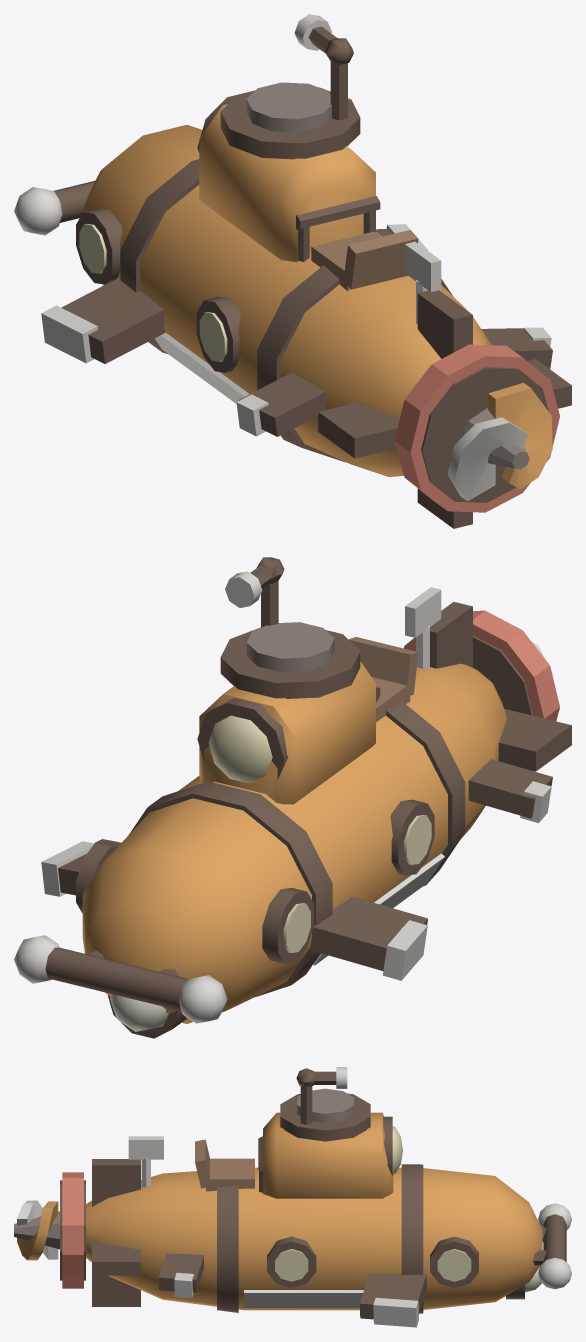
Rendered from ReefRunner.glb.
3 renders of one model, top to bottom at view 1: azimuth 30°, elevation 25°; view 2: azimuth 150°, elevation 25°; view 3: azimuth 270°, elevation 25°, orthographic. The views are drawn at different scales.
Visible parts, largest first — view 1: Hull, Prop, Seat, Hull_Glow; view 2: Hull, Hull_Glow, Seat, Light; view 3: Hull, Prop, Seat, Hull_Glow.
Boxes of the visible parts, left/top/right/bottom form: Hull: left=14, top=14, right=571, bottom=528; Prop: left=447, top=382, right=552, bottom=501; Seat: left=296, top=196, right=418, bottom=291; Hull_Glow: left=79, top=223, right=227, bottom=361; Hull: left=14, top=557, right=571, bottom=1038; Hull_Glow: left=208, top=715, right=431, bottom=952; Seat: left=348, top=637, right=418, bottom=722; Light: left=110, top=994, right=168, bottom=1031; Hull: left=60, top=1067, right=571, bottom=1327; Prop: left=14, top=1200, right=59, bottom=1260; Seat: left=195, top=1136, right=263, bottom=1192; Hull_Glow: left=275, top=1126, right=471, bottom=1281.
Size of the model in its own units: 20.96 by 20.21 by 41.1.
